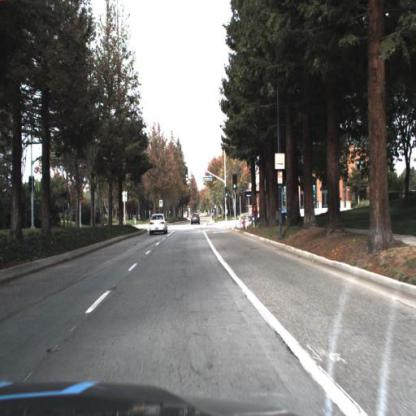car: (149, 213, 171, 239), (190, 212, 202, 228)
pedestrian: (253, 204, 259, 226)
trafficLight-Green: (233, 174, 239, 190), (184, 166, 189, 180), (185, 166, 190, 180), (225, 188, 229, 200)
